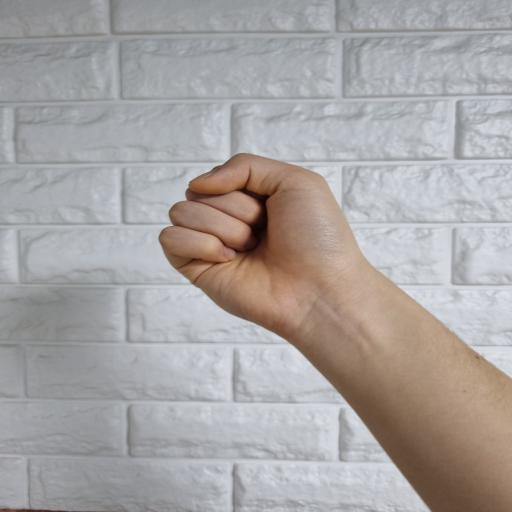Rock: (158, 152, 368, 330)
